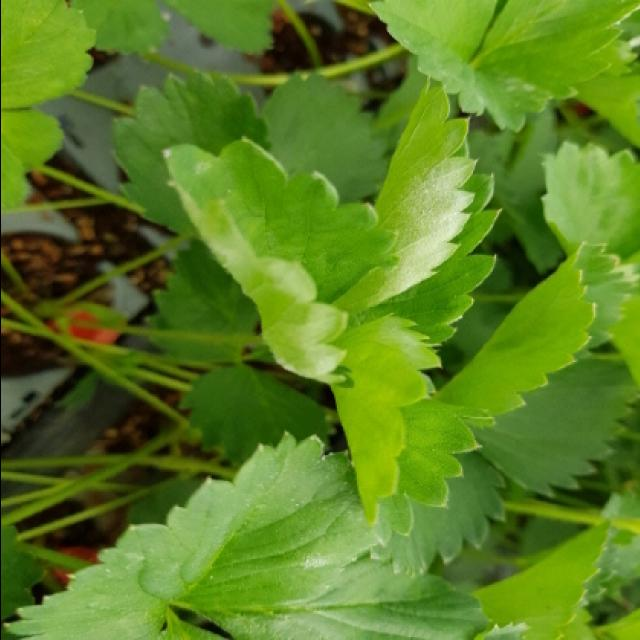Powdery Mildew Leaf: (159, 136, 400, 389), (127, 429, 381, 620), (343, 69, 504, 349)
